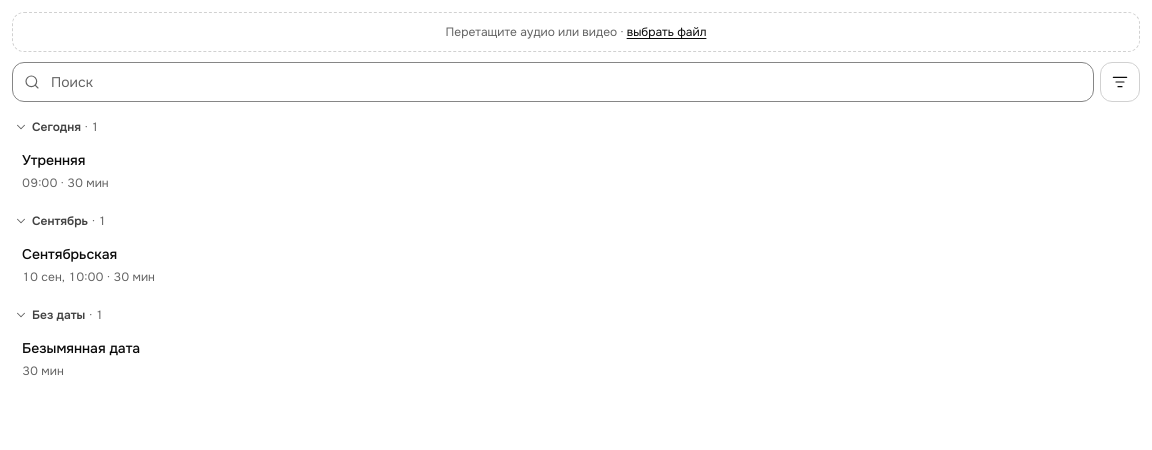
Scenario: числовая дата — сразу метка по Enter; «Искать «05.10» как текст» — фразой
The width and height of the screenshot is (1152, 450).
In the dropdown named "Поиск по записям": (553,82) [12,62,1094,102], type "05.10"
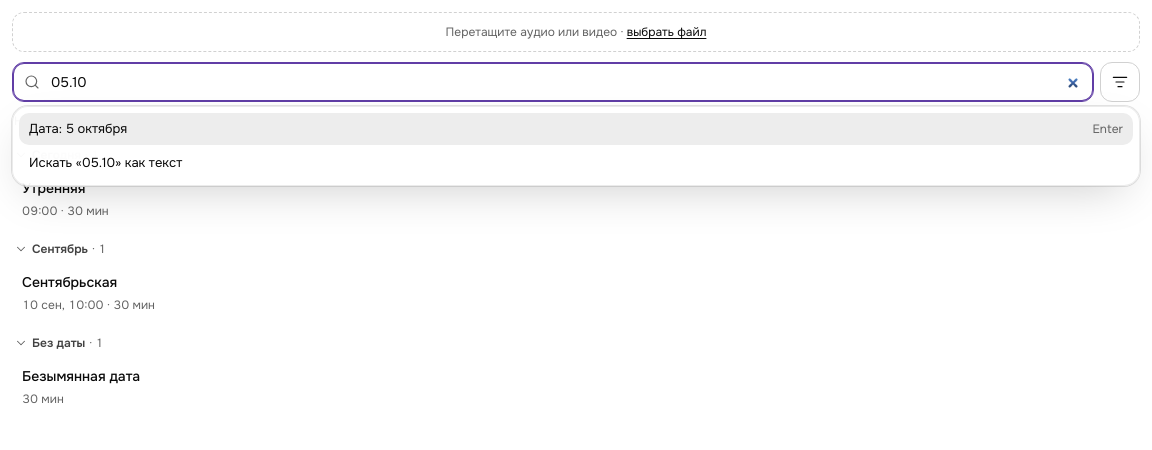
Press Arrowdown Enter
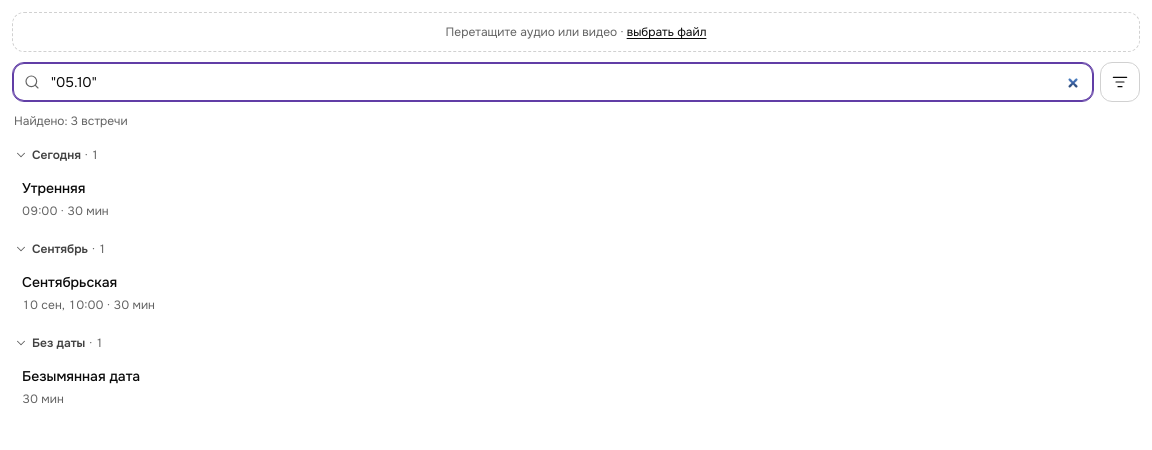
Replace the text in the dropdown named "Поиск по записям" with "05.10": (553,82) [12,62,1094,102]
Then press Enter
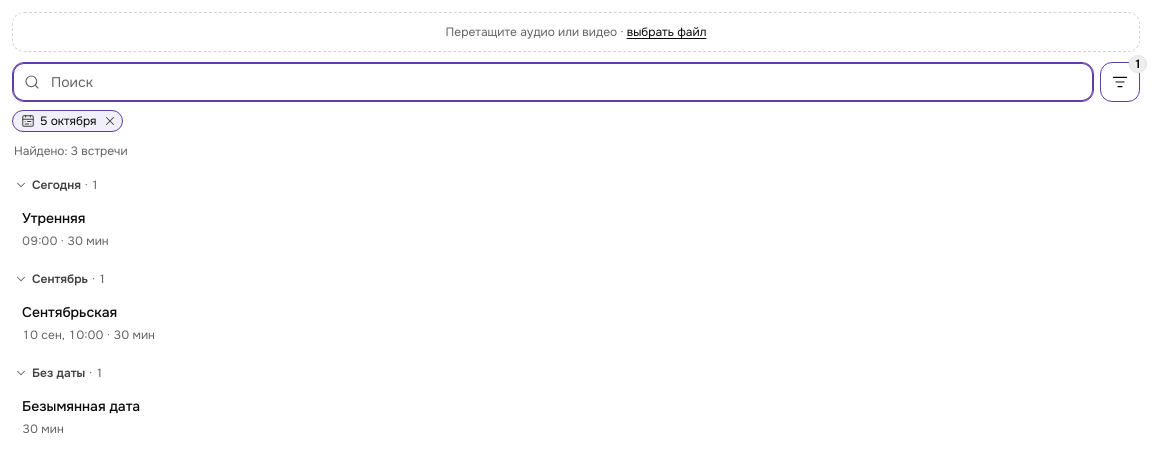
Result: the text "5 октября" is shown at [40,112,96,130]
